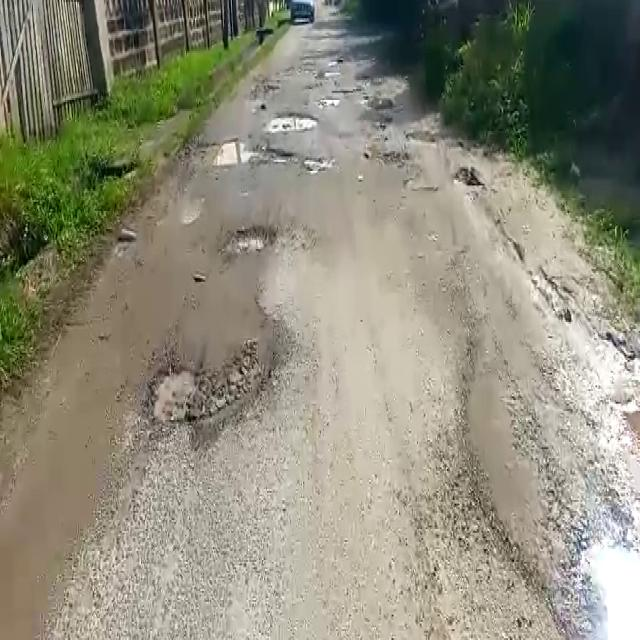Pothole: (566, 511, 640, 636), (146, 359, 213, 445), (211, 140, 298, 169), (224, 221, 281, 256), (264, 110, 321, 132), (302, 150, 332, 173)
